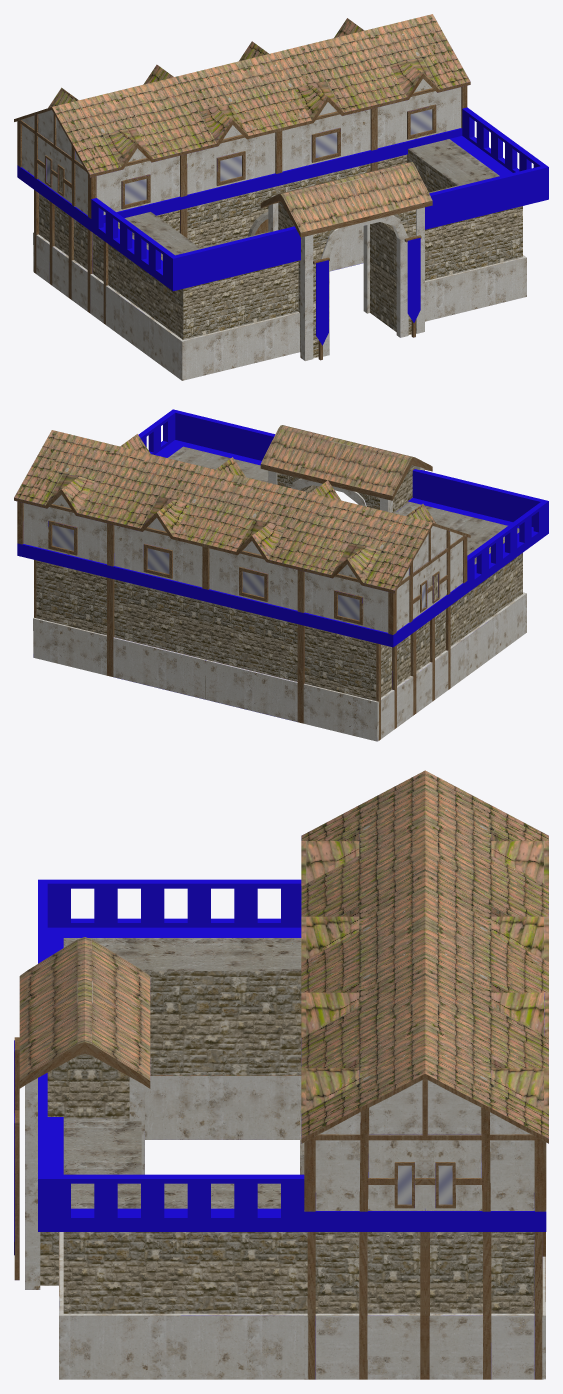
The model's file is Cuartel 13 10 2021.fbx.
The picture shows the model from 3 angles, top to bottom: view 1: azimuth 30°, elevation 25°; view 2: azimuth 150°, elevation 25°; view 3: azimuth 270°, elevation 25°; orthographic projection. The views are drawn at different scales.
Parts seen in each view (by area): view 1: Cuartel 1.001; view 2: Cuartel 1.001; view 3: Cuartel 1.001.
Part boxes in pixels (<box>): Cuartel 1.001: <box>14,14,548,380</box>; Cuartel 1.001: <box>14,409,548,741</box>; Cuartel 1.001: <box>14,770,548,1379</box>.
Bounding box in the file's own units: 111 × 54.88 × 83.09.
